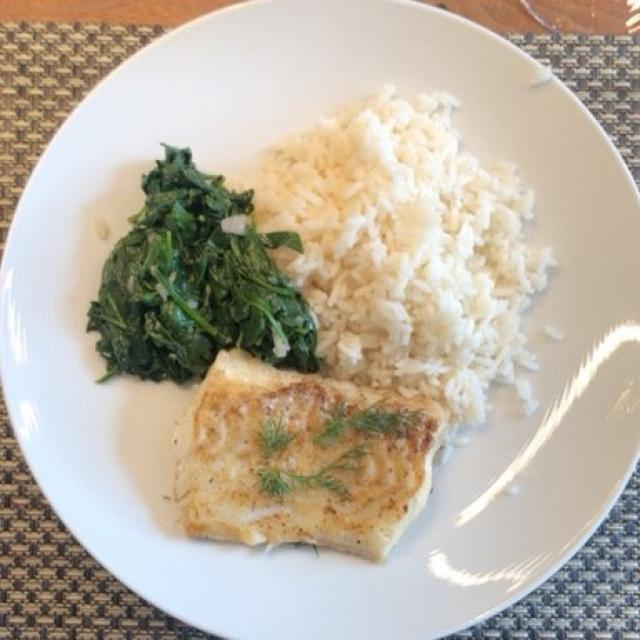fish: (190, 358, 441, 579)
rice: (252, 94, 546, 413)
spinach: (92, 147, 310, 381)
